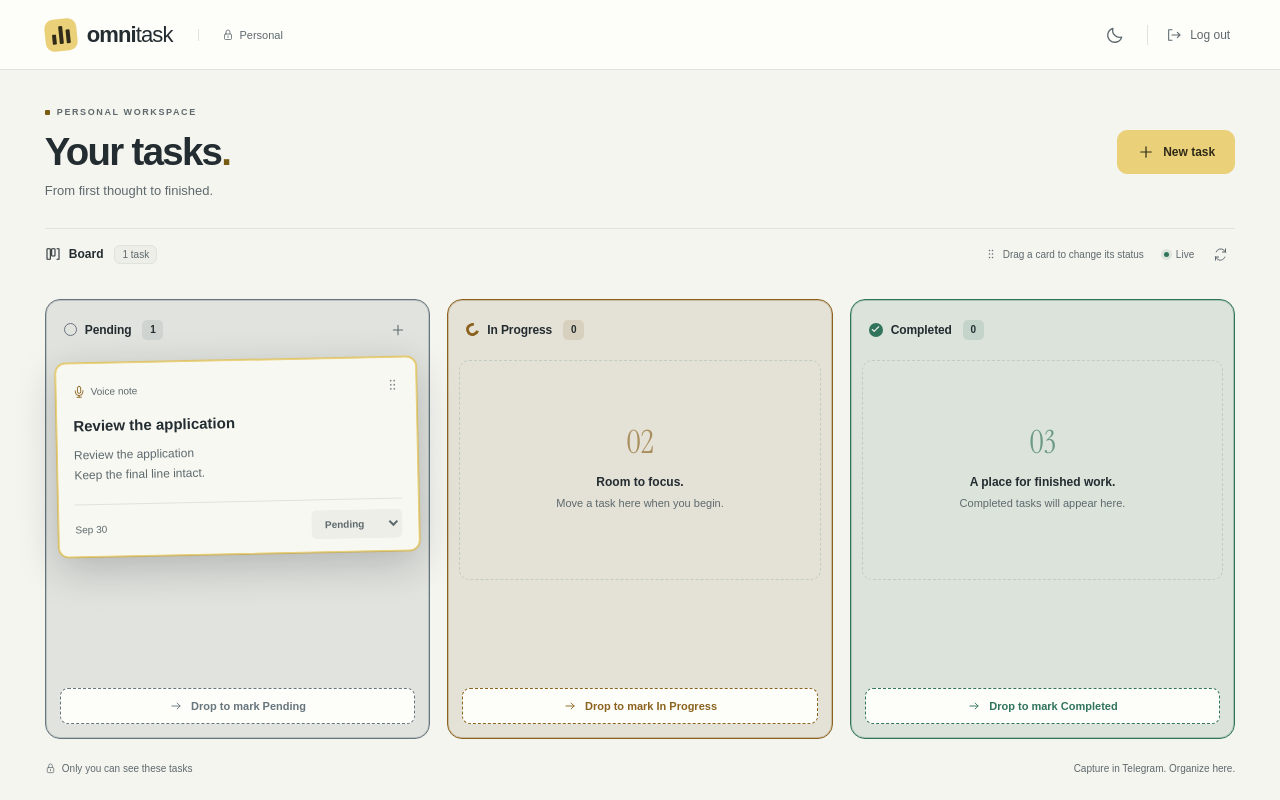
Scenario: private dashboard › revokes the session with CSRF and removes private task content on logout
Check: the button "Review the application" is shown, box [73,408,401,438]
What coordinates should you click on to do the following:
click the button "Log out"
I would click on:
 (1198, 34)
Its box is [1161,14,1235,54].
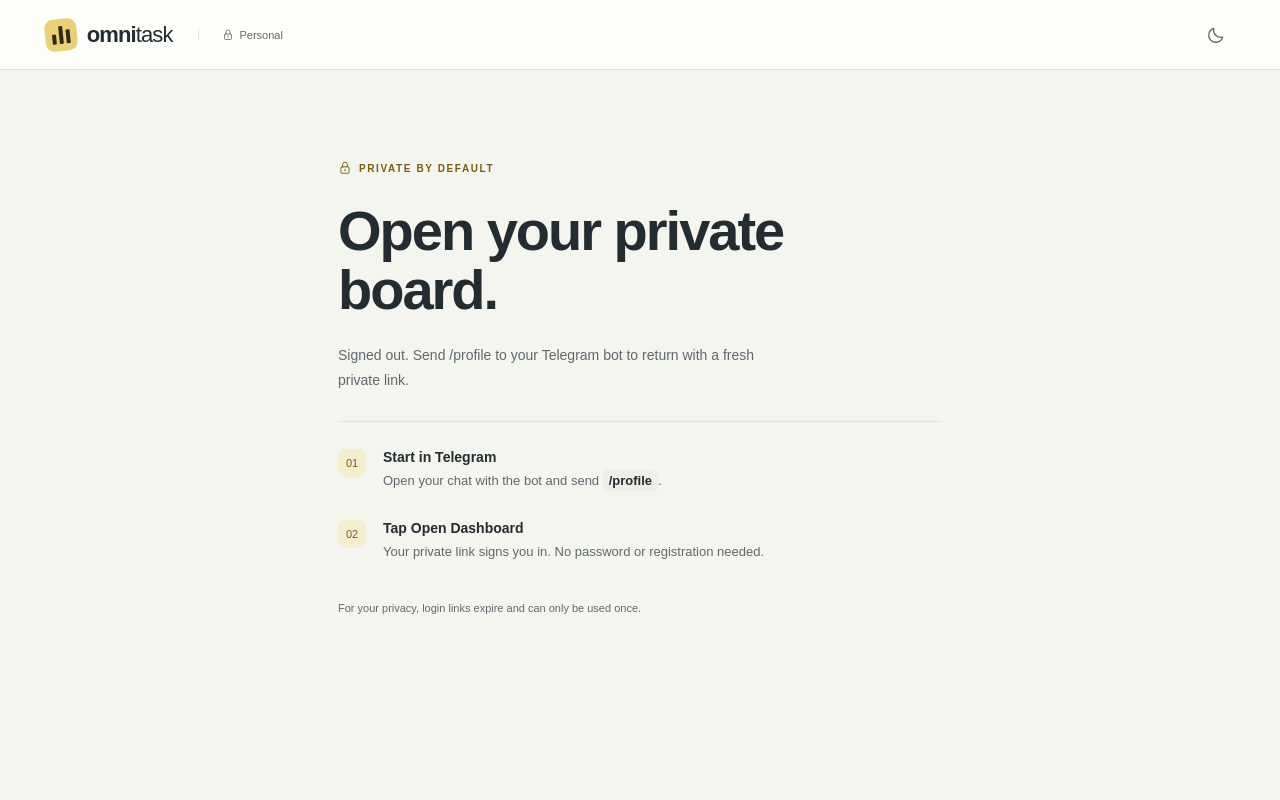
Check: the text "Signed out" is shown, box [338,347,754,388]
Check: the button "Review the application" is gone
